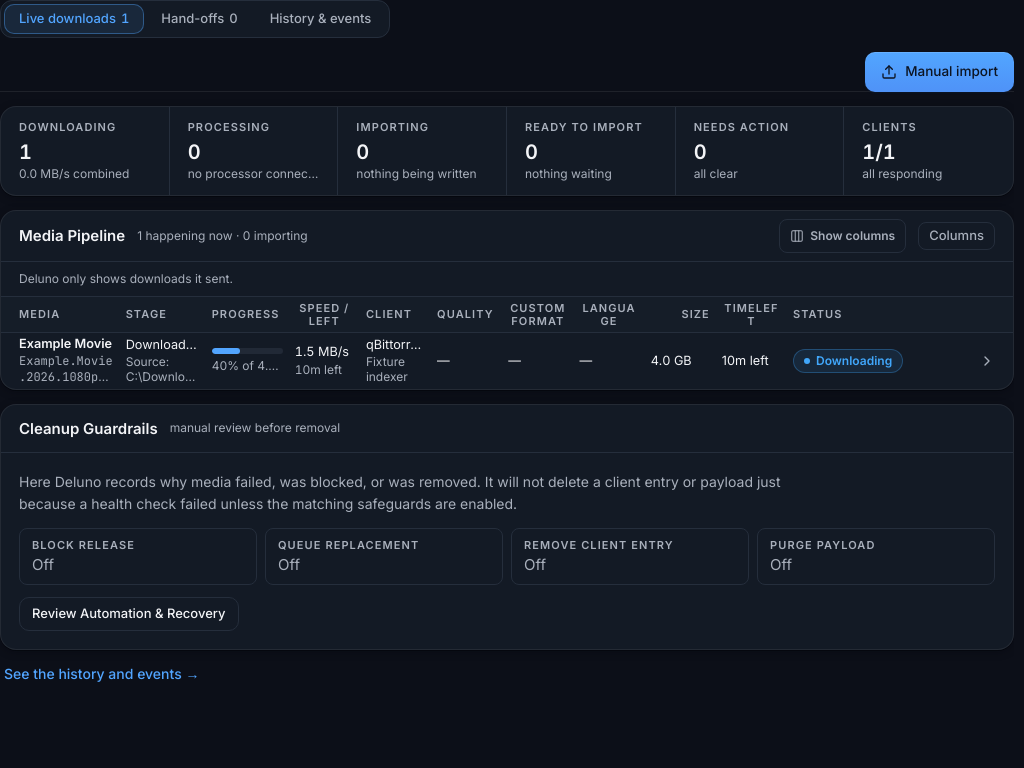
it: download drawer: Queue import is open only to a download that is ready to import › is disabled while the download is still downloading
Click the text "Example.Movie.2026.1080p.WEB-DL-GROUP" at (507, 360), box [1,332,1013,388]
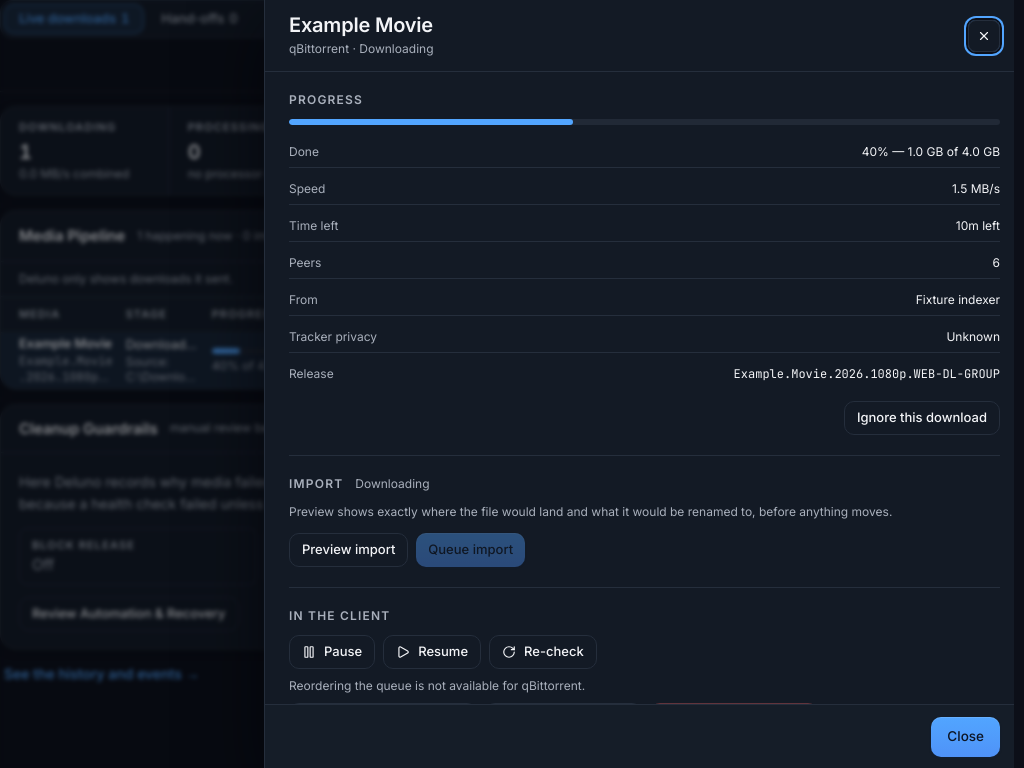
Expected: the button "Queue import" is disabled, [416,533,525,567]
